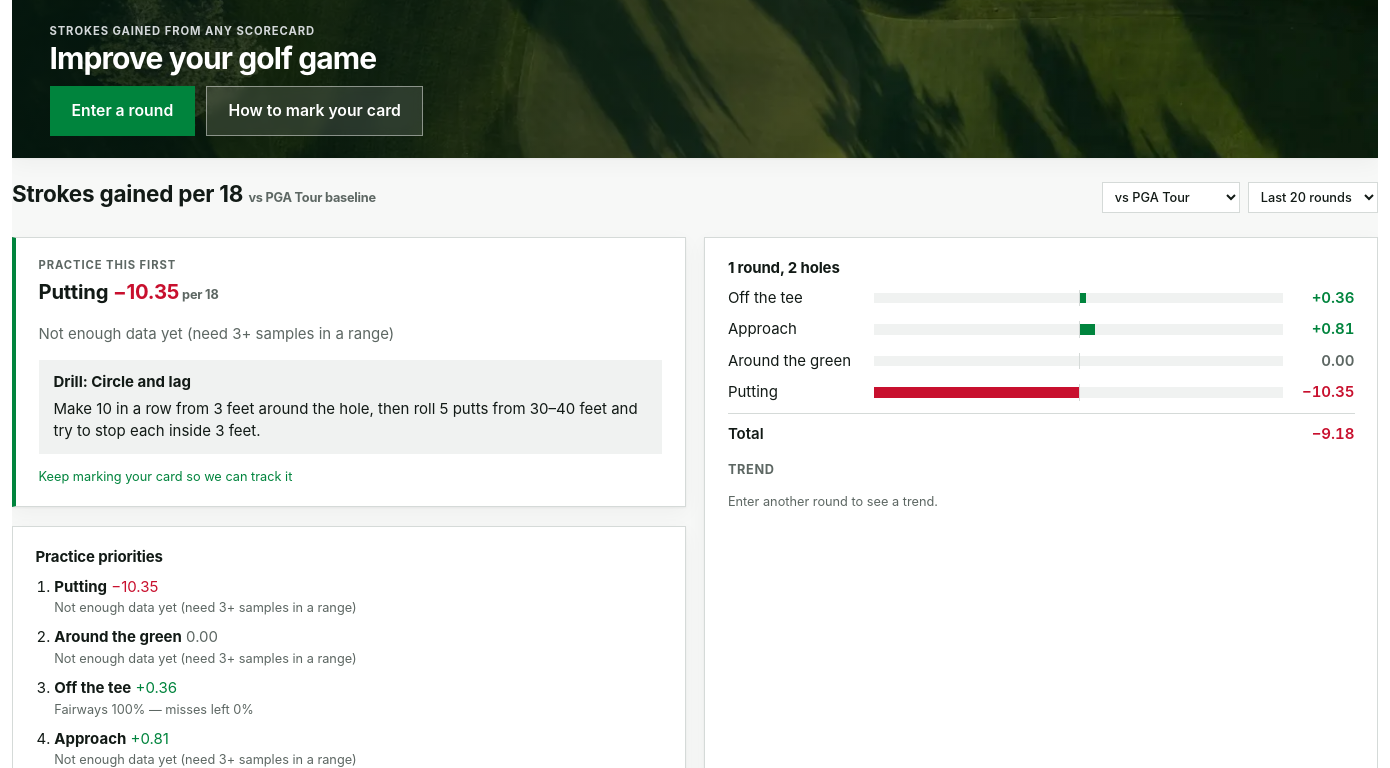
Dashboard › switches the comparison baseline
This screenshot has width=1390, height=768.
Expected: the text "vs PGA Tour baseline" is shown, [248,190,376,205]
Select "vs Scratch (est.)" in the dropdown named "Compare against" at x=1171, y=197, box [1102,182,1240,213]
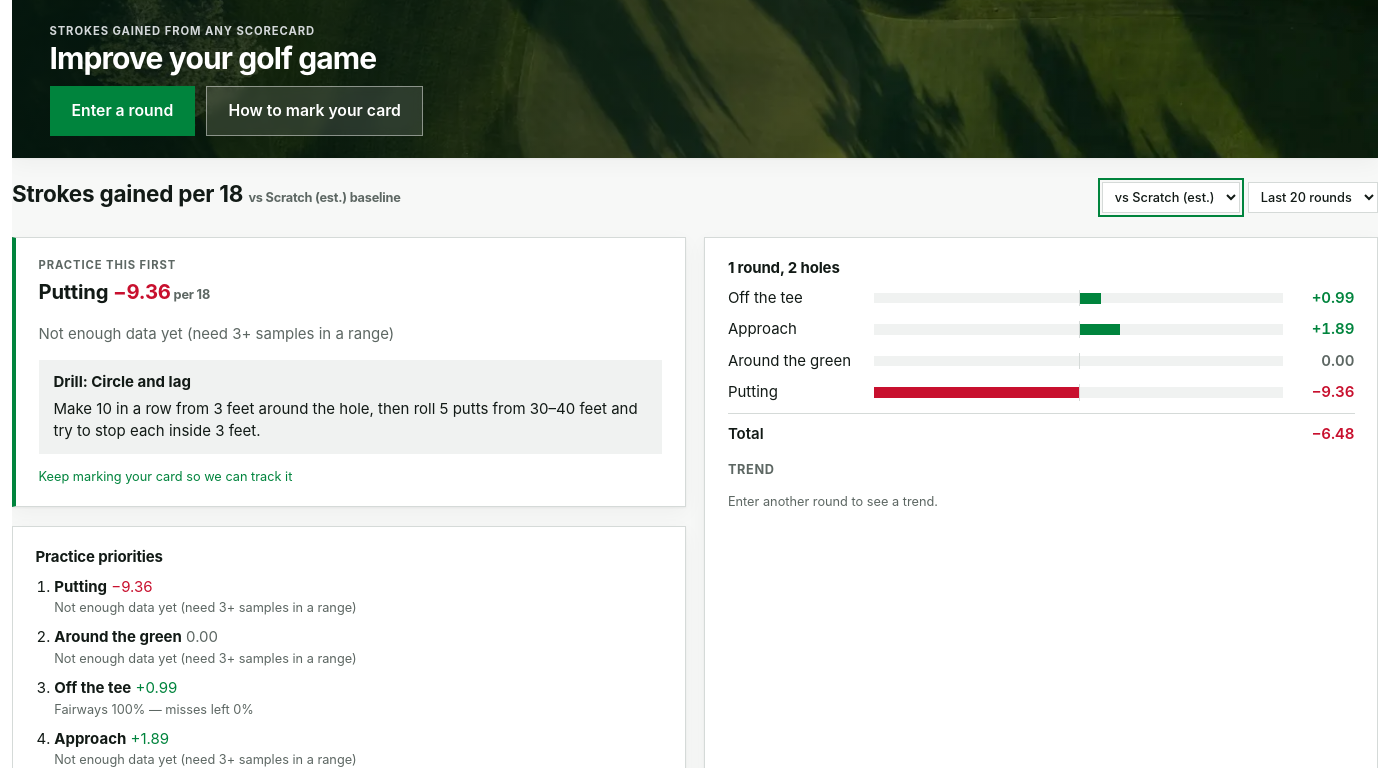
Expected: the heading "Practice priorities" is shown, [36,547,163,566]
Now the text "vs Scratch (est.) baseline" is shown, box [248,190,401,205]
